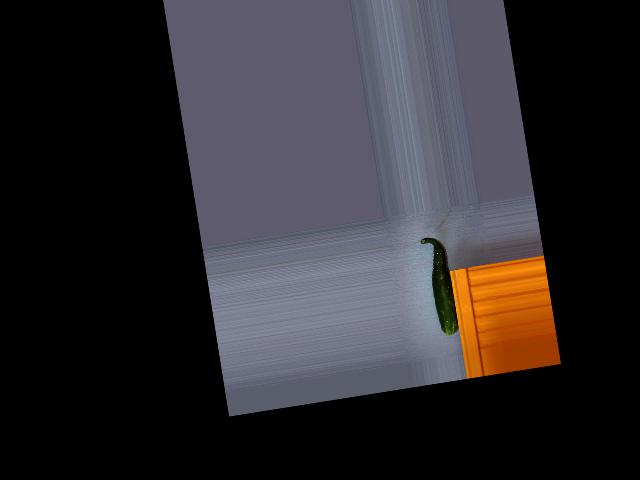cucumber: (419, 234, 459, 336)
